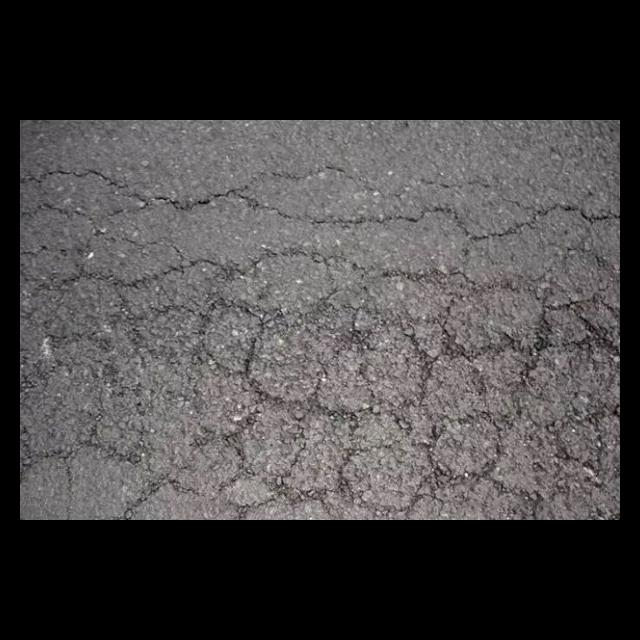retak_kulit_buaya: (20, 160, 620, 520)
